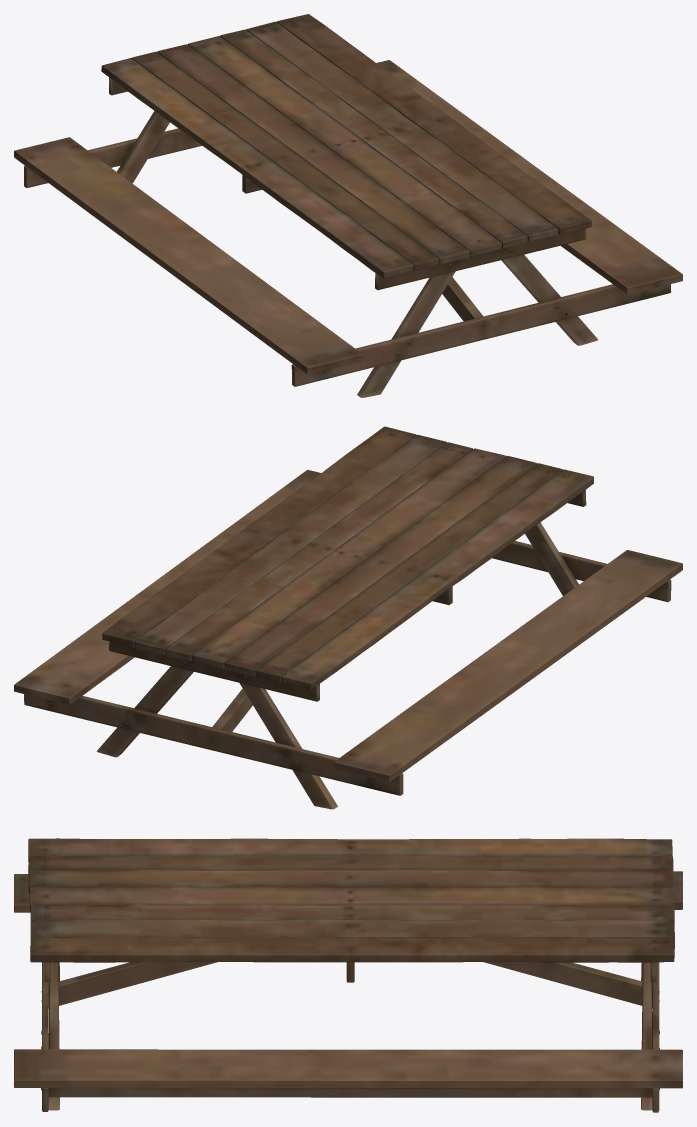
The model's file is wooden_picnic_table.glb.
3 views of the same model, one above another, from view 1: azimuth 30°, elevation 25°; view 2: azimuth 150°, elevation 25°; view 3: azimuth 270°, elevation 25° (orthographic). The views are drawn at different scales.
Visible parts, largest first — view 1: wooden_picnic_table; view 2: wooden_picnic_table; view 3: wooden_picnic_table.
Part boxes in pixels (<box>): wooden_picnic_table: <box>14,14,682,397</box>; wooden_picnic_table: <box>14,426,682,809</box>; wooden_picnic_table: <box>14,838,682,1112</box>.
Bounding box in the file's own units: 2.24 × 0.746 × 3.02.
2 materials, 2 textured.
